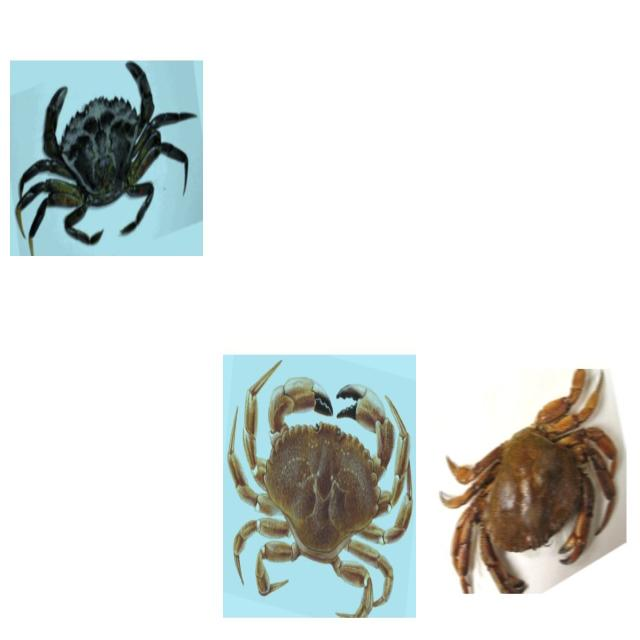egc: (9, 55, 202, 257)
jonah_crab: (224, 355, 415, 622)
rock_crab: (441, 369, 619, 593)
